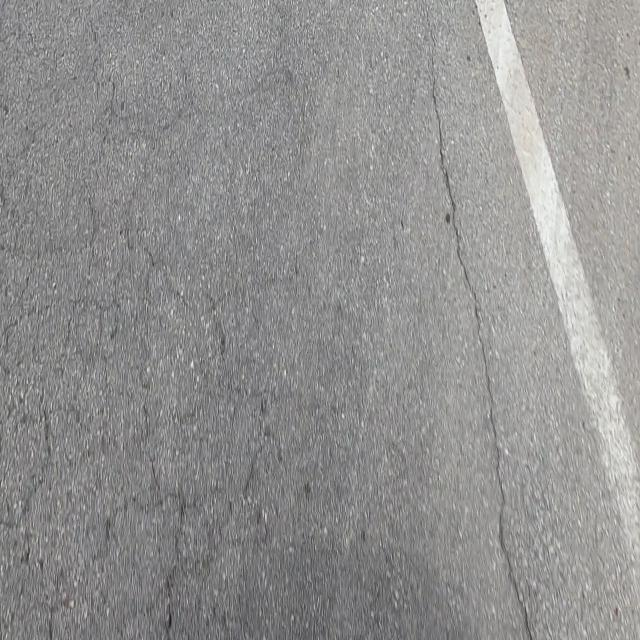Retak-Buaya: (0, 213, 270, 640)
Retak-Memanjang: (430, 58, 537, 640)
